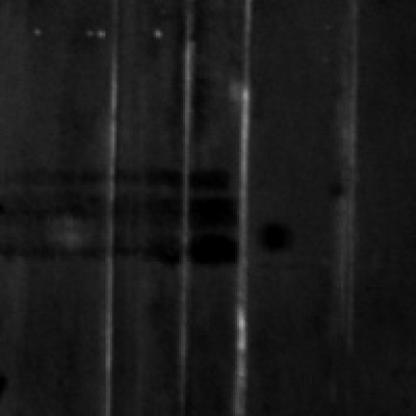inclusion: (0, 158, 243, 268)
scratches: (222, 6, 258, 412), (91, 4, 122, 412), (164, 1, 198, 348), (332, 19, 366, 347)
